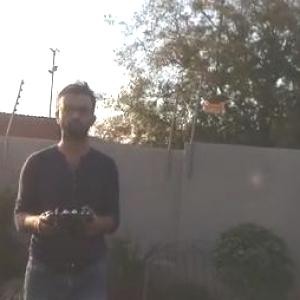follow: (7, 70, 124, 299)
